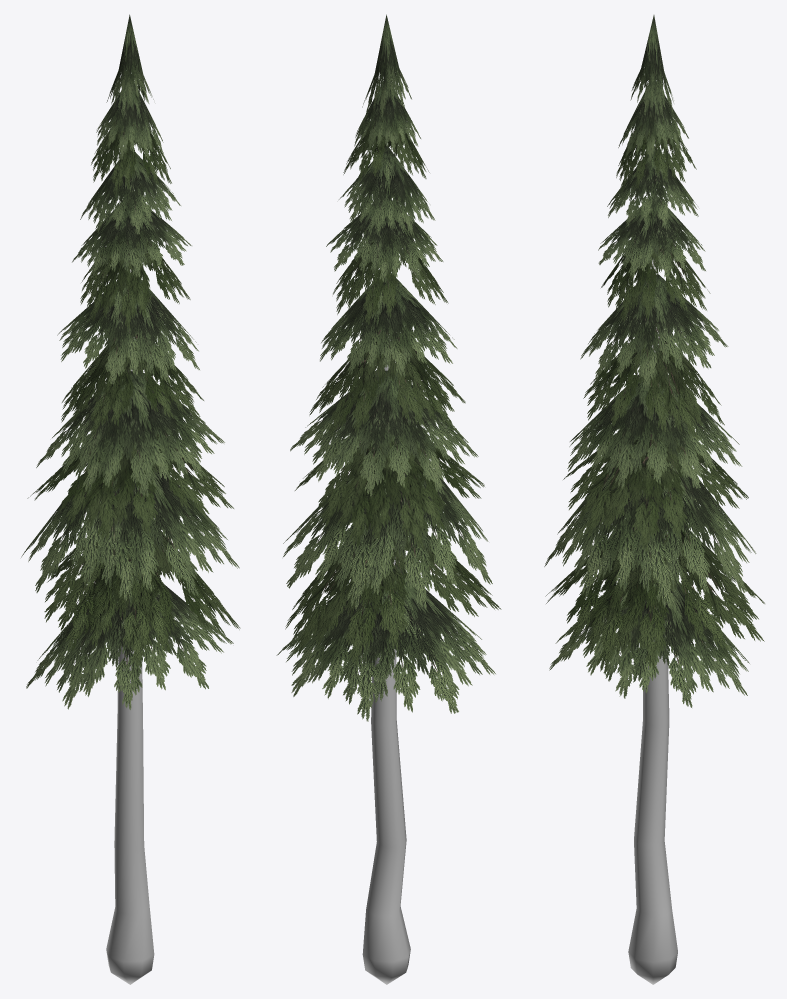
The model's file is Pine_07.fbx.
The picture shows the model from 3 angles, left to right: view 1: azimuth 30°, elevation 25°; view 2: azimuth 150°, elevation 25°; view 3: azimuth 270°, elevation 25°; orthographic projection.
Parts seen in each view (by area): view 1: polySurface1; view 2: polySurface1; view 3: polySurface1.
Part boxes in pixels (x1,y1,x2,y2): polySurface1: (21, 14, 240, 984); polySurface1: (276, 14, 501, 984); polySurface1: (544, 15, 764, 984).
Bounding box in the file's own units: 3.12 × 14.64 × 3.26.
